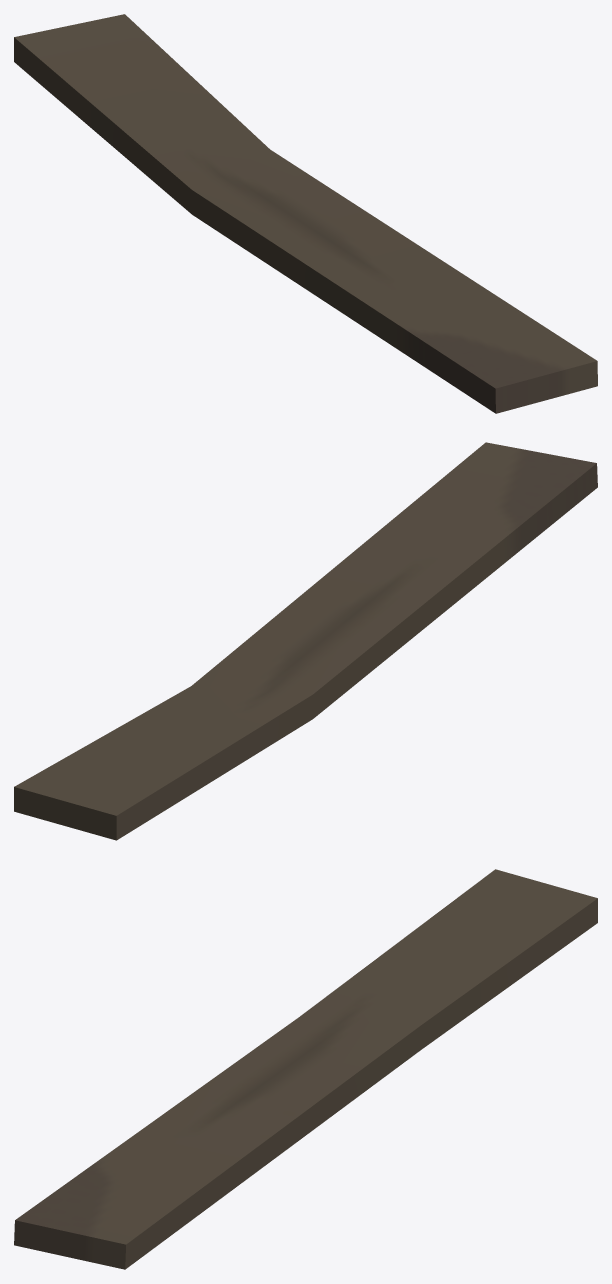
Rendered from SM_Bld_Dock_Plank_02.fbx.
3 renders of one model, top to bottom at view 1: azimuth 30°, elevation 25°; view 2: azimuth 150°, elevation 25°; view 3: azimuth 330°, elevation 25°, orthographic.
Parts seen in each view (by area): view 1: SM_Bld_Dock_Plank_02; view 2: SM_Bld_Dock_Plank_02; view 3: SM_Bld_Dock_Plank_02.
Boxes of the visible parts, x1=… form: SM_Bld_Dock_Plank_02: x1=14, y1=14, x2=597, y2=413; SM_Bld_Dock_Plank_02: x1=14, y1=442, x2=597, y2=840; SM_Bld_Dock_Plank_02: x1=14, y1=869, x2=597, y2=1269.
Bounding box in the file's own units: 35.07 × 11.23 × 252.
